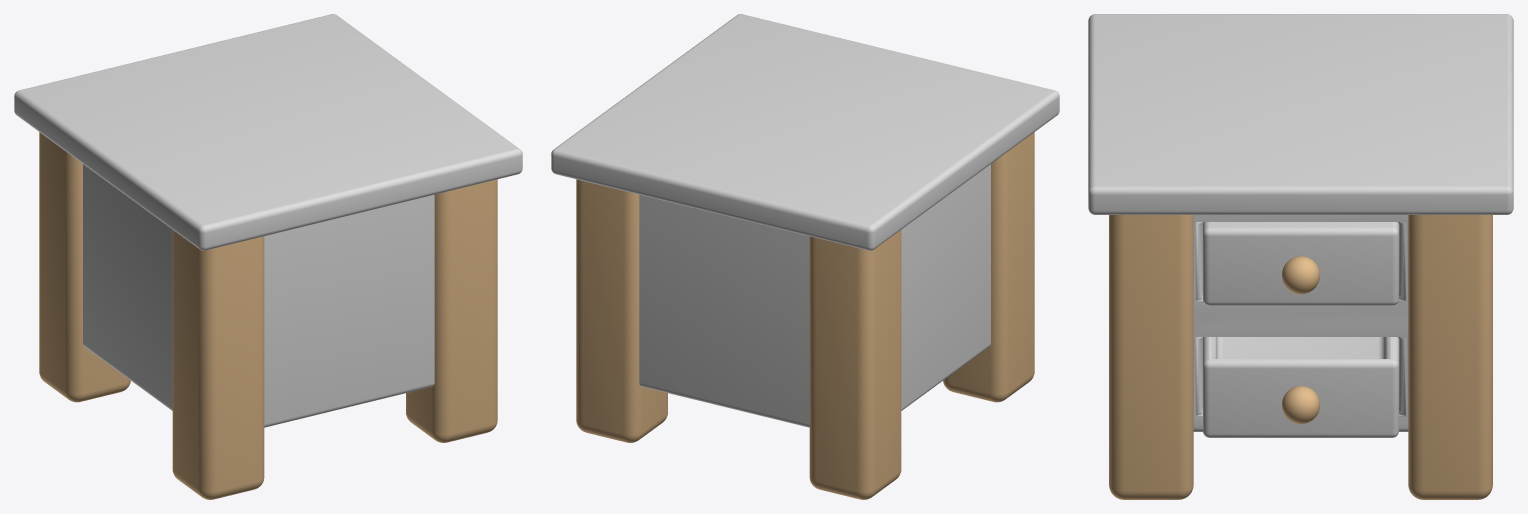
File: bedside_table.glb
The picture shows the model from 3 angles, left to right: view 1: azimuth 30°, elevation 25°; view 2: azimuth 150°, elevation 25°; view 3: azimuth 270°, elevation 25°; orthographic projection. The views are drawn at different scales.
Parts seen in each view (by area): view 1: bedside_table; view 2: bedside_table; view 3: bedside_table.
Part boxes in pixels (x1=…): bedside_table: x1=14, y1=14, x2=522, y2=499; bedside_table: x1=551, y1=14, x2=1059, y2=499; bedside_table: x1=1088, y1=14, x2=1513, y2=499.
Bounding box in the file's own units: 0.7409 × 0.5506 × 0.6564.
